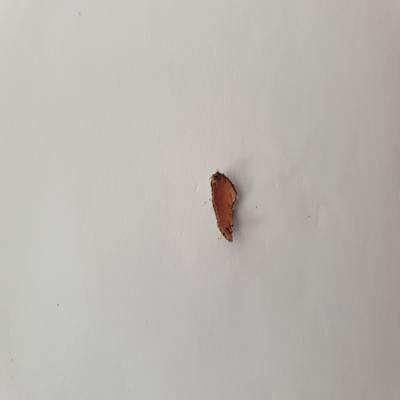plastic: (205, 167, 247, 249)
